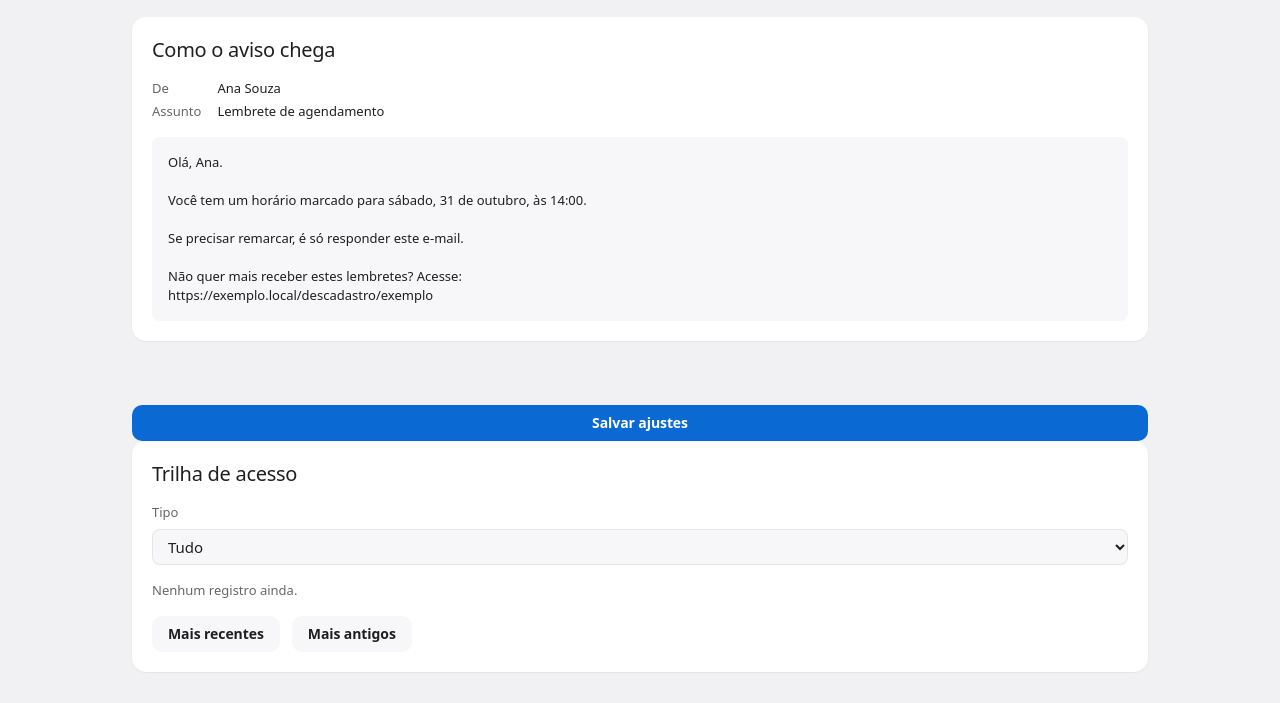
Test case: AjustesPage › erros de campo do servidor pousam no campo
The width and height of the screenshot is (1280, 703).
(page scrolled)
Step 1. Click the button "Salvar ajustes" → {"x": 640, "y": 423}, box 132,405 -> 1148,441
(page scrolled)
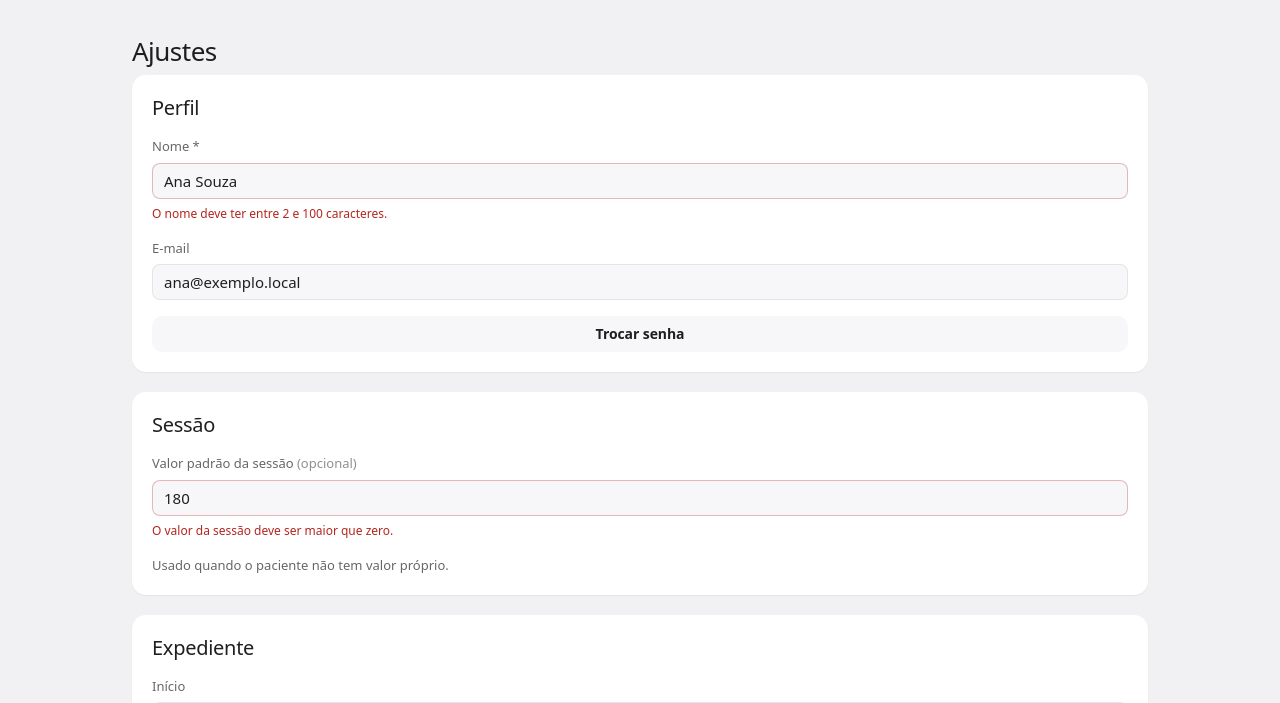
Now the text "O nome deve ter entre 2 e 100 caracteres." is shown, box 152,204 -> 387,222
